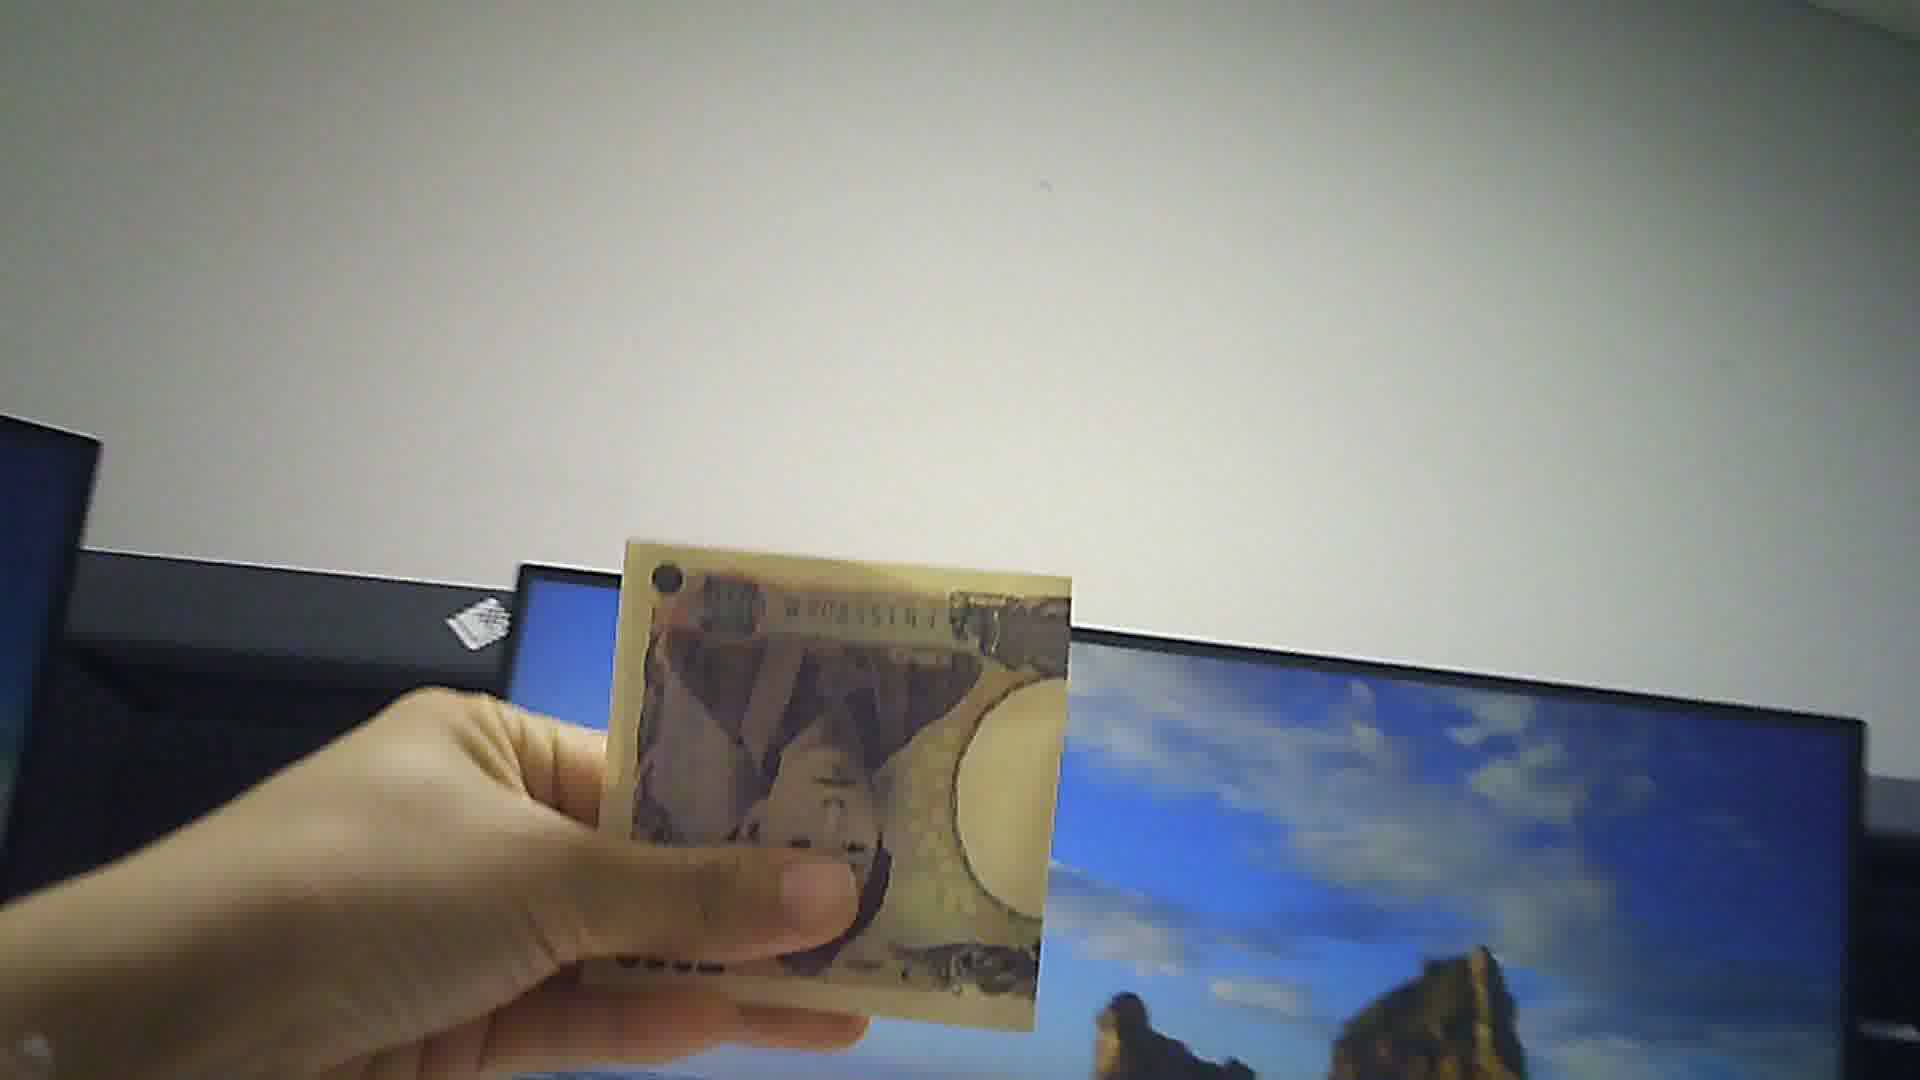5,000 Yen: (571, 534, 1083, 1060)
